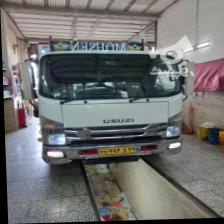plate: (95, 146, 141, 154)
